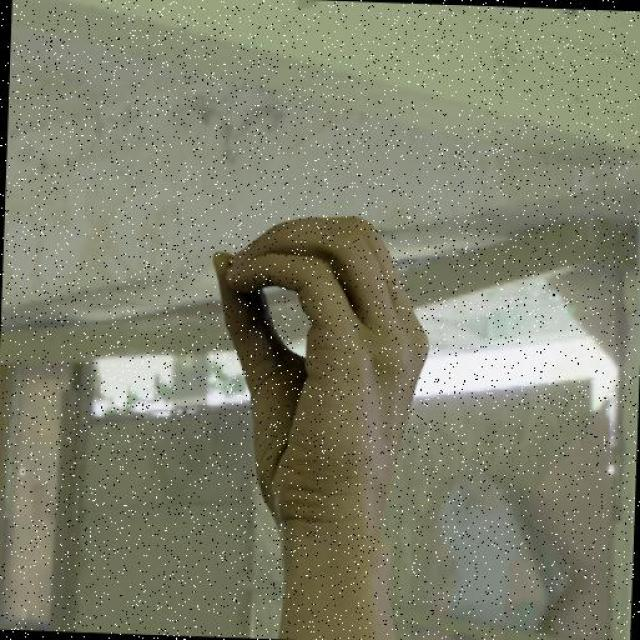O: (196, 209, 438, 541)
